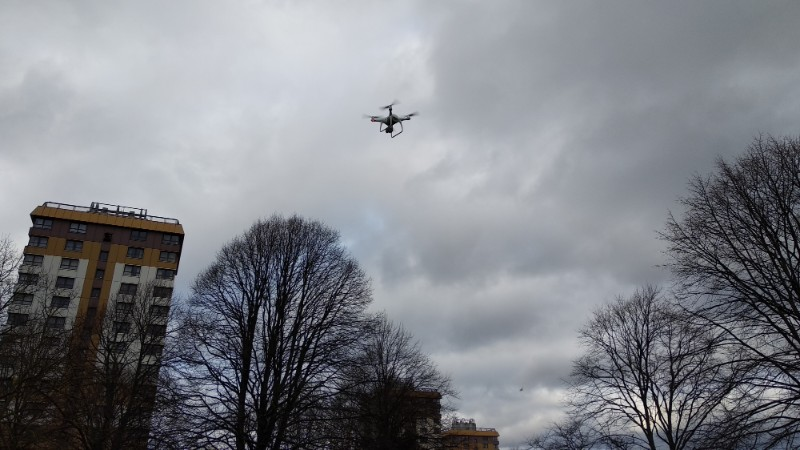drone: (363, 102, 420, 136)
